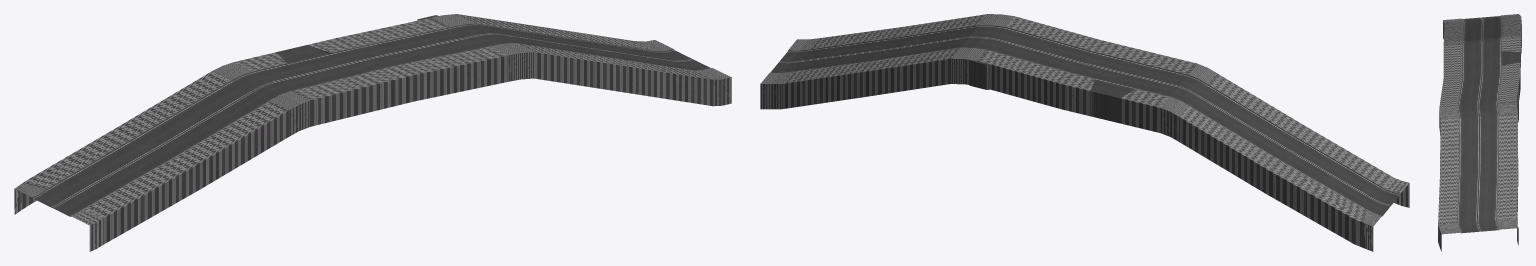
Rendered from road_sfw51.obj.
The picture shows the model from 3 angles, left to right: view 1: azimuth 30°, elevation 25°; view 2: azimuth 150°, elevation 25°; view 3: azimuth 270°, elevation 25°; orthographic projection. The views are drawn at different scales.
Parts seen in each view (by area): view 1: road_SFW51; view 2: road_SFW51; view 3: road_SFW51.
Boxes of the visible parts, x1,y1,x2,y2 form: road_SFW51: (14, 14, 731, 251); road_SFW51: (760, 14, 1409, 251); road_SFW51: (1438, 14, 1521, 251).
Bounding box in the file's own units: 130 × 19.81 × 21.41.
Materials: 3 (3 with a texture image).
